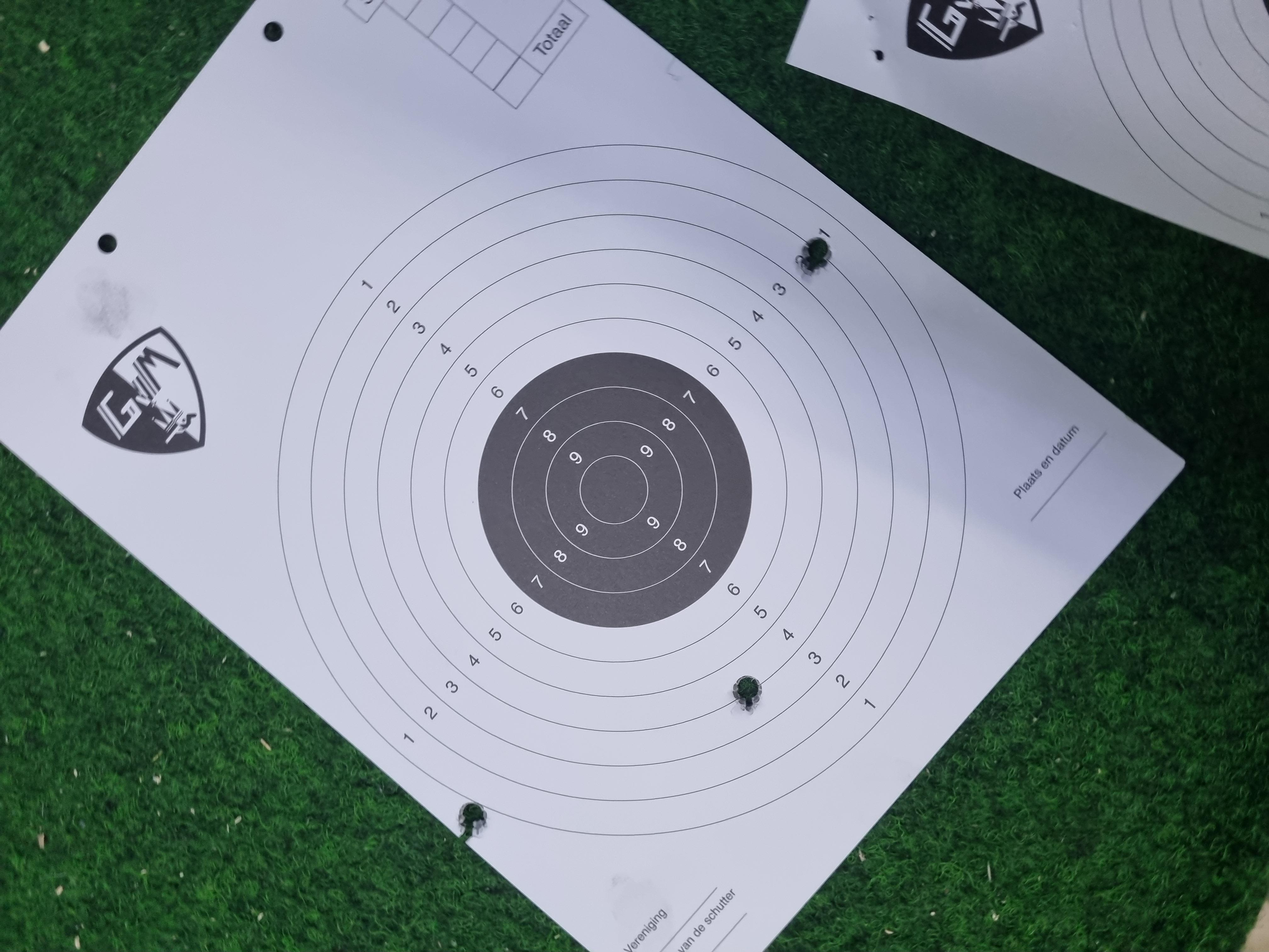hole: (901, 600, 953, 625), (317, 549, 369, 572), (154, 343, 201, 366)
